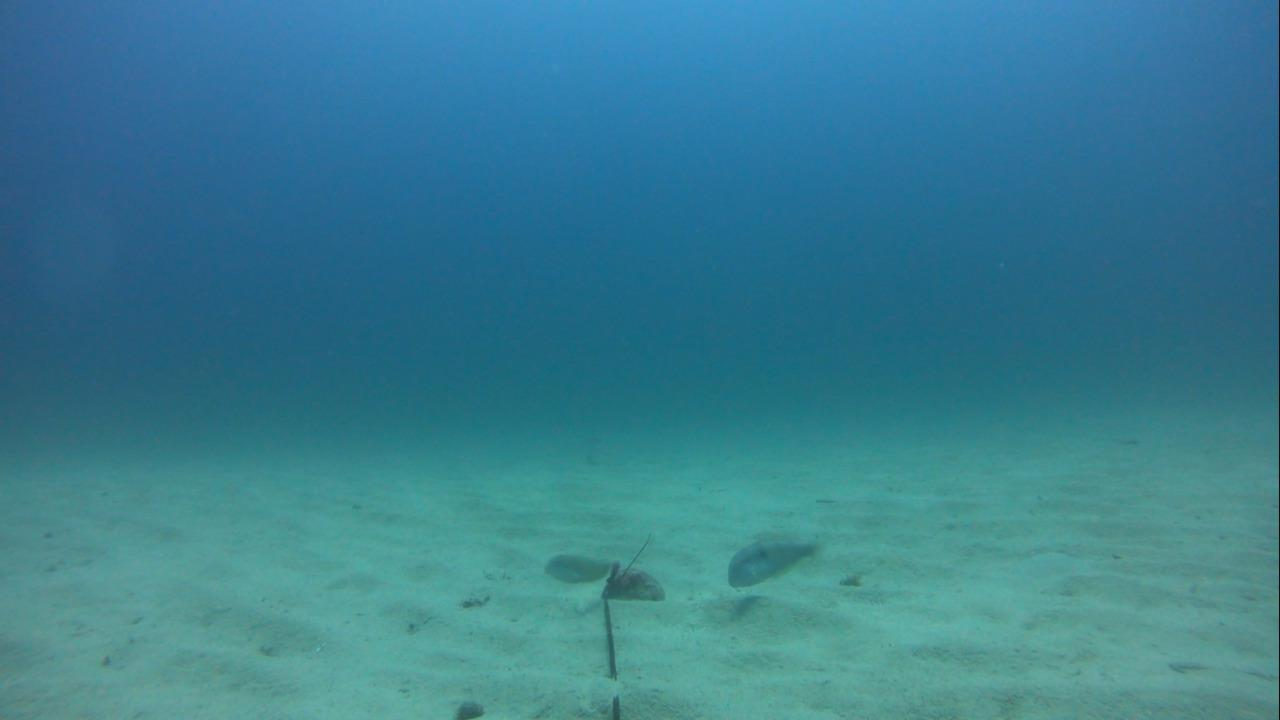raor: (725, 538, 824, 589), (536, 543, 621, 582)
